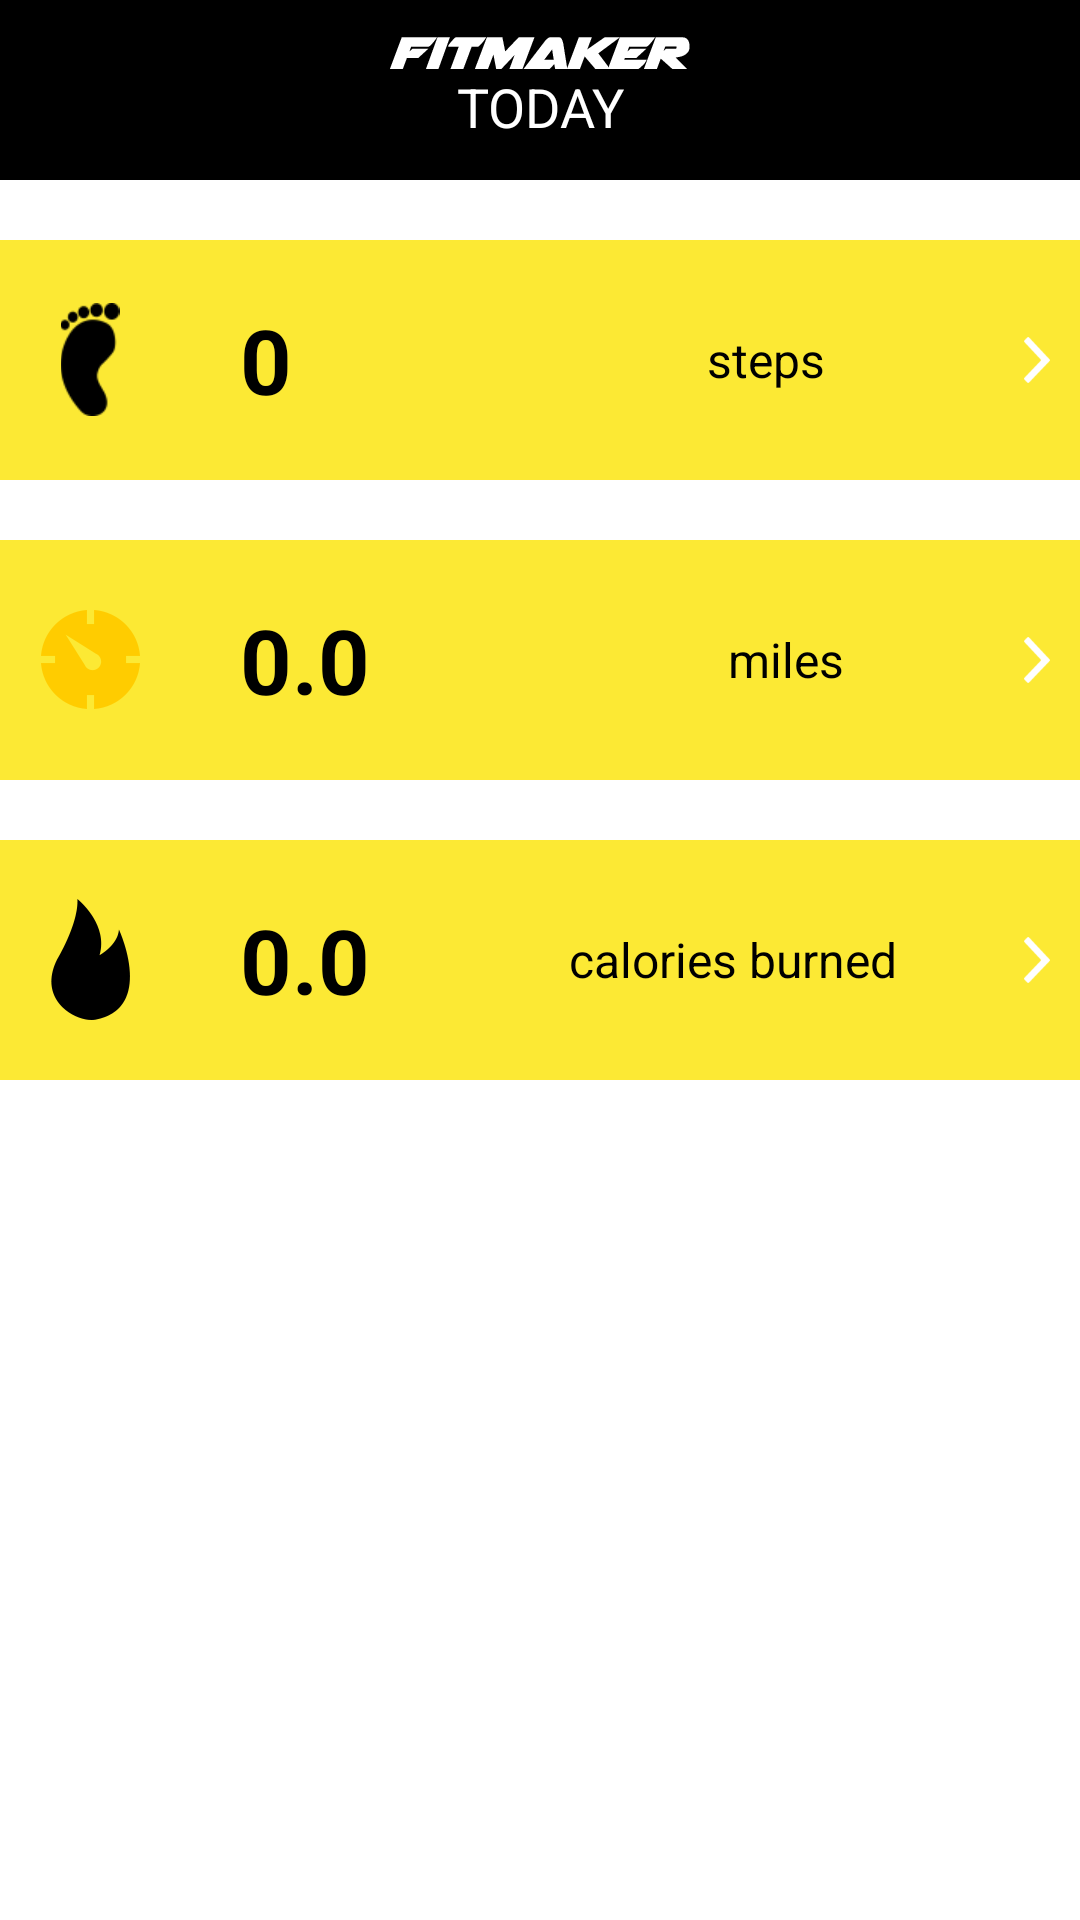

Icon click points for this 1080×1920 phone screenshot, format point (x, y):
item burn: point (90, 959)
item steps: point (90, 359)
